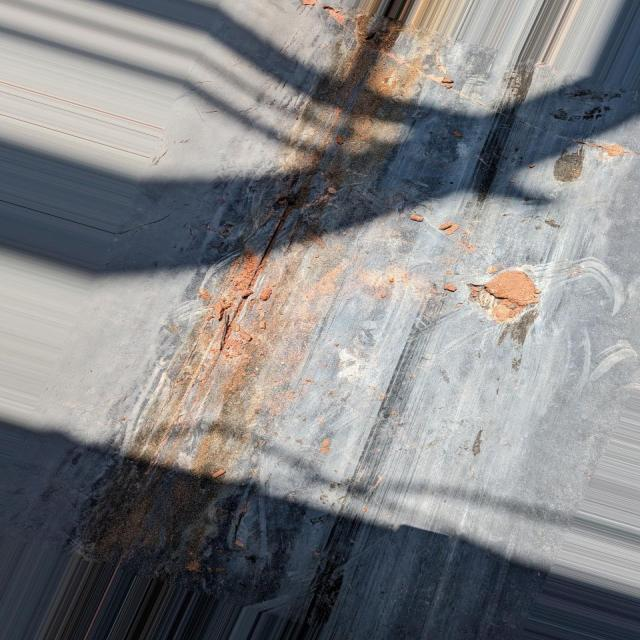Wear: (66, 3, 460, 586)
